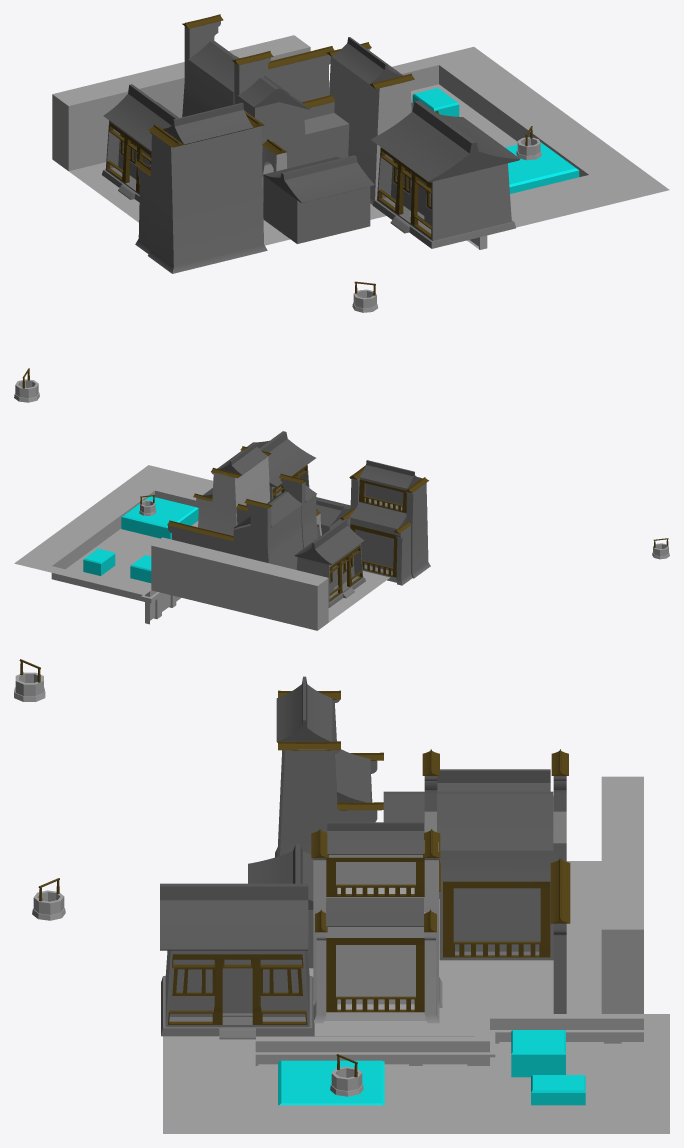
The model's file is Level04_Layout.fbx.
3 renders of one model, top to bottom at view 1: azimuth 30°, elevation 25°; view 2: azimuth 150°, elevation 25°; view 3: azimuth 270°, elevation 25°, orthographic. The views are drawn at different scales.
Visible parts, largest first — view 1: Ground2, pCube9 (×2), pCube10 (×4), Body (×2), pCube25 (×2), pCube33, pCube34, pCube26 (×2), WoodBeams1 (×2), pCube35, HouseBlock, pCube37; view 2: Ground2, pCube9 (×2), pCube25 (×2), pCube10 (×4), pCube35, Body, pCube16 (×2), pCube11, pCube26, polySurface2, pCube37, pCube34 (+3 smaller); view 3: Ground2, pCube9 (×2), pCube10 (×4), pCube25 (×2), polySurface2, Body, pCube26 (×2), pCube16 (×3), pCube11 (×2), pCube35, WoodBeams2, pCube36 (+5 smaller).
Part boxes in pixels (x1,y1,x2,y2): Ground2: [52, 35, 669, 245]; pCube9 (×2): [135, 48, 413, 273]; pCube10 (×4): [103, 37, 519, 182]; Body (×2): [102, 120, 515, 248]; pCube25 (×2): [182, 21, 334, 168]; pCube33: [263, 175, 370, 243]; pCube34: [263, 155, 374, 202]; pCube26 (×2): [188, 40, 310, 109]; WoodBeams1 (×2): [106, 122, 431, 238]; pCube35: [505, 142, 579, 193]; HouseBlock: [304, 113, 349, 163]; pCube37: [412, 88, 459, 116]; Ground2: [14, 465, 389, 630]; pCube9 (×2): [196, 450, 430, 585]; pCube25 (×2): [168, 478, 317, 569]; pCube10 (×4): [217, 431, 421, 564]; pCube35: [121, 496, 198, 539]; Body: [296, 544, 365, 607]; pCube16 (×2): [350, 479, 406, 577]; pCube11: [349, 502, 406, 528]; pCube26: [233, 491, 302, 528]; polySurface2: [141, 585, 181, 624]; pCube37: [83, 548, 115, 575]; pCube34: [316, 497, 350, 526]; Ground2: [163, 776, 669, 1133]; pCube9 (×2): [275, 699, 442, 1023]; pCube10 (×4): [160, 676, 550, 950]; pCube25 (×2): [424, 776, 566, 1013]; polySurface2: [255, 1014, 643, 1065]; Body: [161, 950, 314, 1039]; pCube26 (×2): [383, 791, 553, 850]; pCube16 (×3): [326, 857, 550, 1012]; pCube11 (×2): [326, 749, 423, 926]; pCube35: [278, 1060, 384, 1105]; WoodBeams2: [168, 954, 307, 1024]; pCube36: [511, 1030, 565, 1077].
Bounding box in the file's own units: 89.92 × 22.7 × 55.99.
